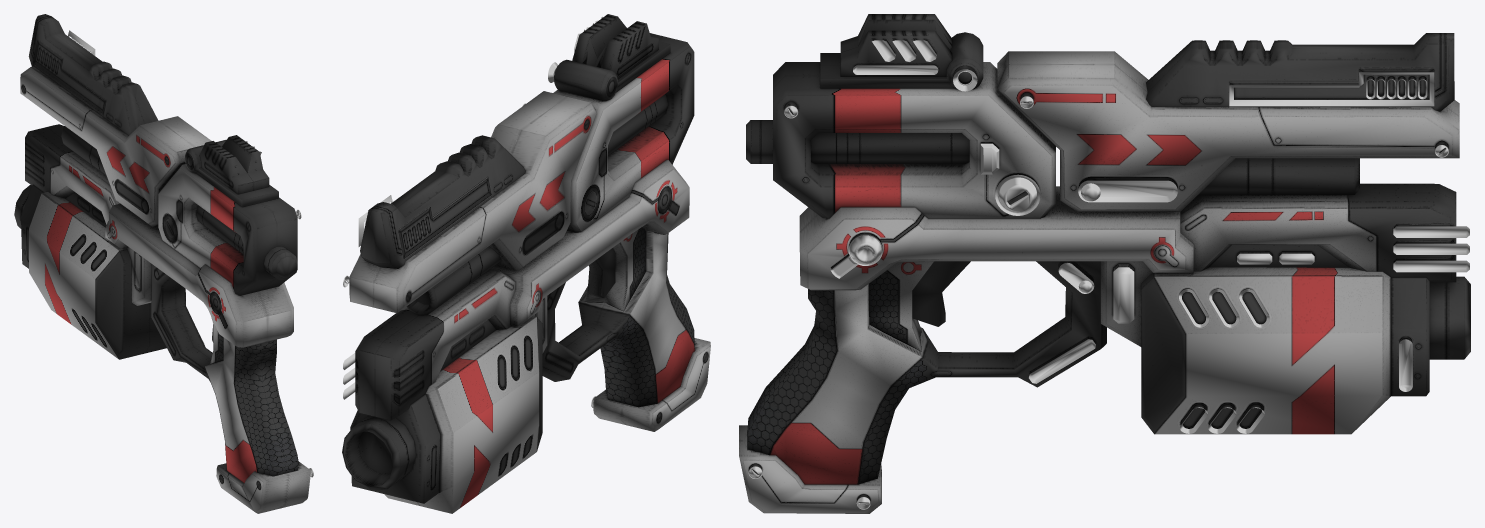
File: ScifiGun.obj
3 renders of one model, left to right at view 1: azimuth 30°, elevation 25°; view 2: azimuth 150°, elevation 25°; view 3: azimuth 270°, elevation 25°, orthographic. The views are drawn at different scales.
Visible parts, largest first — view 1: ScifiGun; view 2: ScifiGun; view 3: ScifiGun.
Boxes of the visible parts, x1,y1,x2,y2 form: ScifiGun: (14,14,313,513); ScifiGun: (342,14,710,513); ScifiGun: (739,14,1470,513).
Bounding box in the file's own units: 0.0381 × 0.1458 × 0.2043.
